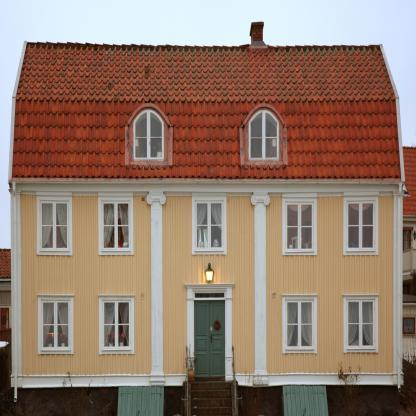Building Outline: (7, 21, 405, 387)
Cornice: (127, 103, 170, 125), (243, 103, 285, 125), (184, 283, 235, 289), (36, 191, 72, 196), (98, 191, 134, 196), (344, 191, 379, 196), (38, 294, 74, 298), (99, 294, 135, 298), (282, 294, 318, 298), (192, 192, 227, 196), (282, 193, 317, 197), (343, 294, 379, 297)
Door: (194, 301, 225, 377)
Facade: (8, 21, 406, 387)
Floor: (11, 191, 402, 269)
Floor Slab: (11, 181, 402, 191), (11, 268, 402, 278)
Ground Floor: (11, 278, 402, 386)
Pillar: (250, 192, 270, 387), (146, 191, 166, 386), (11, 191, 20, 387), (393, 191, 402, 385)
Roof: (7, 41, 405, 183)
Top Floor: (8, 98, 405, 181)
Window: (133, 110, 164, 160), (249, 110, 279, 160), (347, 299, 376, 350), (347, 200, 376, 251), (40, 200, 69, 251), (285, 200, 314, 251), (102, 300, 131, 350), (195, 200, 223, 251), (102, 200, 130, 251), (42, 300, 70, 350), (286, 300, 314, 350), (195, 293, 224, 298)
